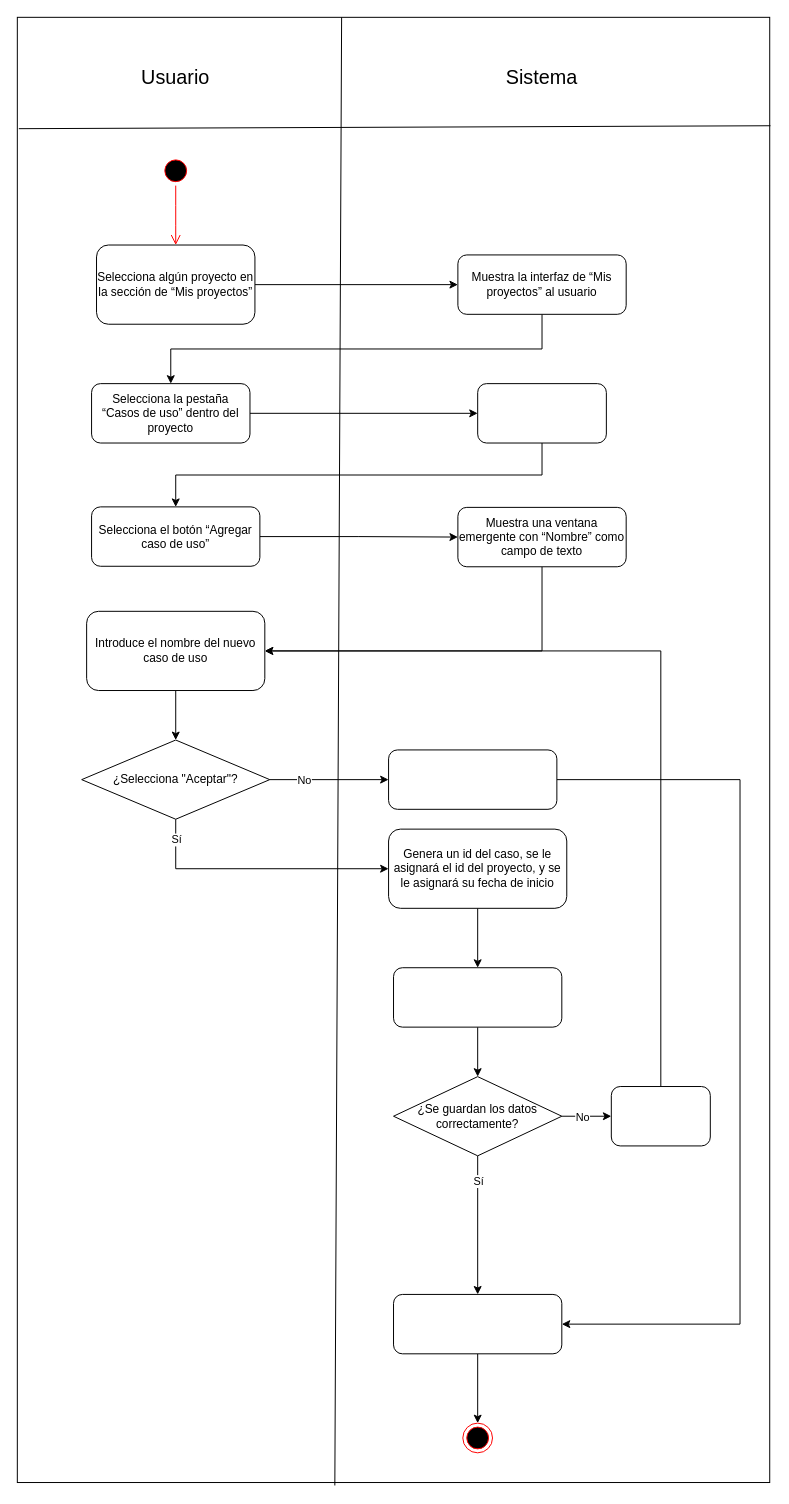
The diagram is 789 pixels wide and 1504 high, and some of its shapes have lost their labels. The shapes that lost their labels are listed below. From the top down, each one's box as (x1, y1, x2, y2) in pixels, then its label:
(477, 383, 606, 443): Muestra la interfaz de la pestaña “Casos de uso”
(388, 749, 557, 809): La ventana emergente del nuevo caso de uso se cierra
(393, 967, 562, 1027): Los nuevos datos se ingresan a la base de datos
(610, 1086, 710, 1146): Muestra un mensaje de error
(393, 1293, 562, 1354): La ventana emergente se cierra y se actualiza la página
